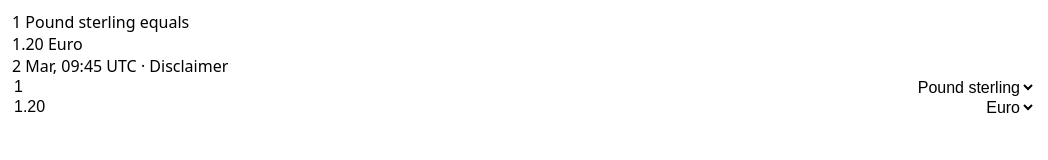
it: ConversionLayout functional behaviour › updates conversion when from currency changes
Select "US Dollar" in the dropdown labelled "From currency" at (750,87), box [464,78,1036,97]
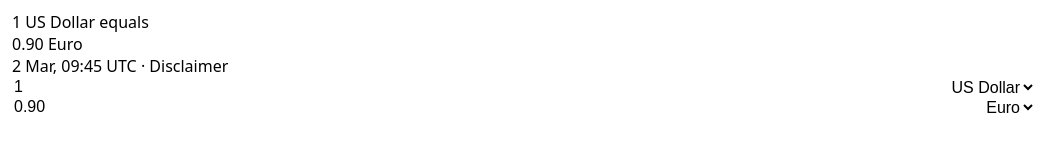
Check: the text "0.90 Euro" is shown, box [12,33,83,55]
